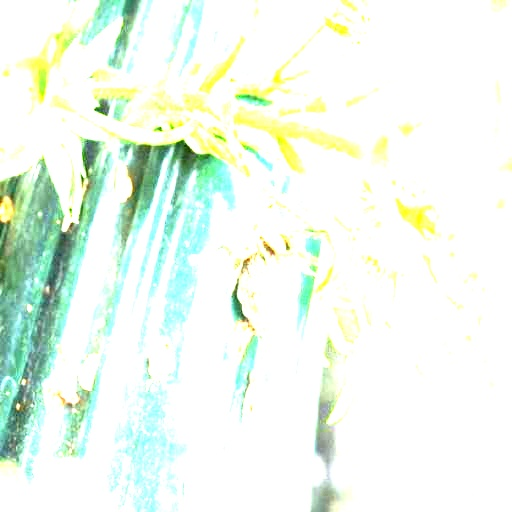Gray Mold: (221, 186, 329, 372)
